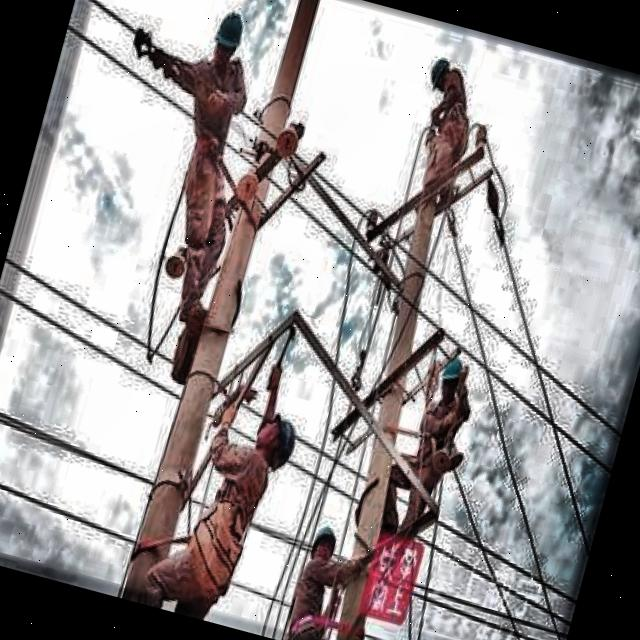helmet: (244, 401, 312, 474), (203, 6, 250, 72), (304, 520, 341, 572), (420, 52, 458, 102), (434, 354, 469, 408)
